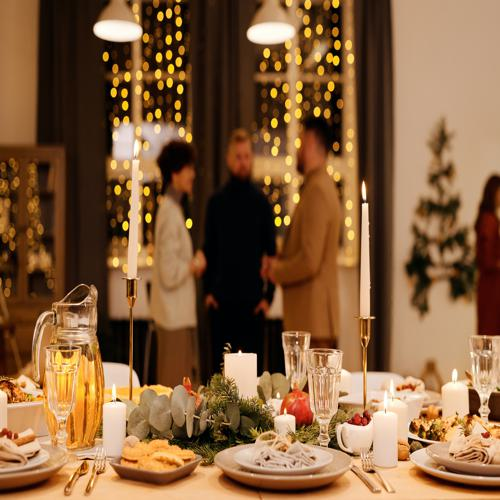copa: (43, 344, 83, 456), (309, 348, 340, 455), (468, 334, 500, 435), (280, 332, 310, 398)
